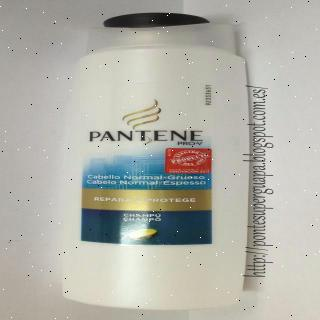Plastic-bottle: (57, 13, 275, 313)
